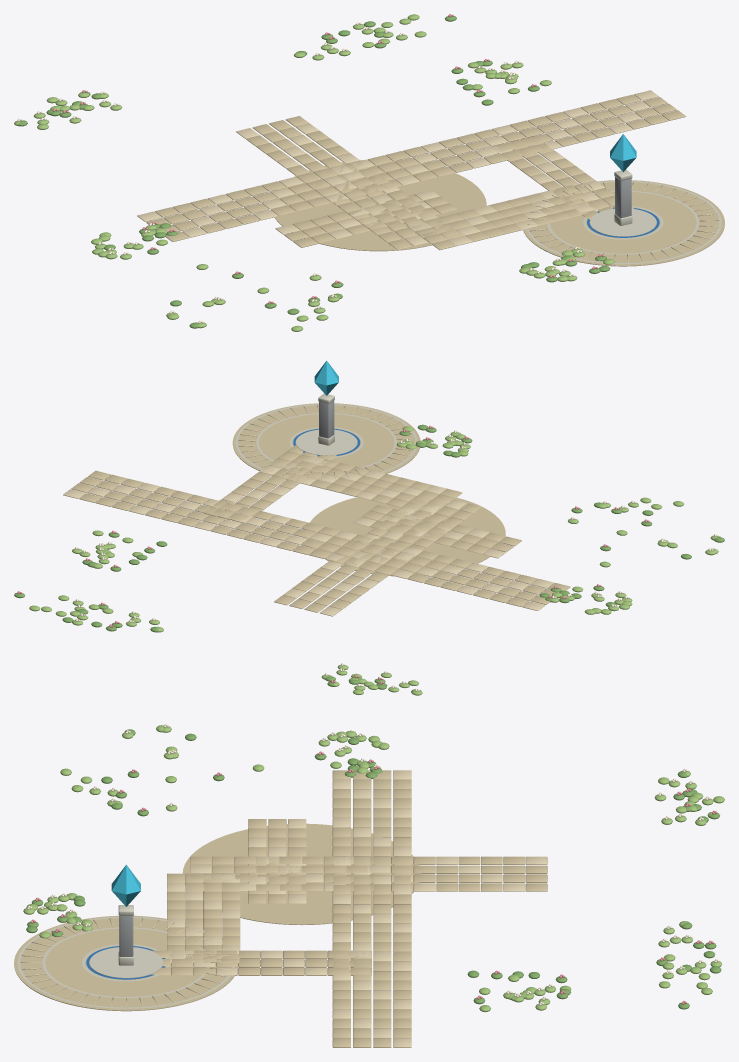
File: village_plaza.glb
3 views of the same model, one above another, from view 1: azimuth 30°, elevation 25°; view 2: azimuth 150°, elevation 25°; view 3: azimuth 270°, elevation 25° (orthographic). The views are drawn at different scales.
Parts seen in each view (by area): view 1: village_plaza_mesh; view 2: village_plaza_mesh; view 3: village_plaza_mesh.
Boxes of the visible parts, left/top/right/bottom form: village_plaza_mesh: left=14, top=14, right=724, bottom=331; village_plaza_mesh: left=14, top=360, right=724, bottom=695; village_plaza_mesh: left=14, top=724, right=724, bottom=1047.
Size of the model in its own units: 21.66 by 3.16 by 20.25.
